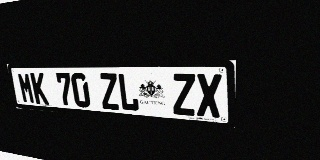0: (70, 73, 91, 108)
7: (55, 73, 75, 107)
K: (30, 73, 49, 105)
L: (117, 73, 140, 112)
M: (17, 73, 36, 104)
X: (196, 74, 222, 118)
Z: (171, 73, 196, 116), (98, 73, 120, 110)
